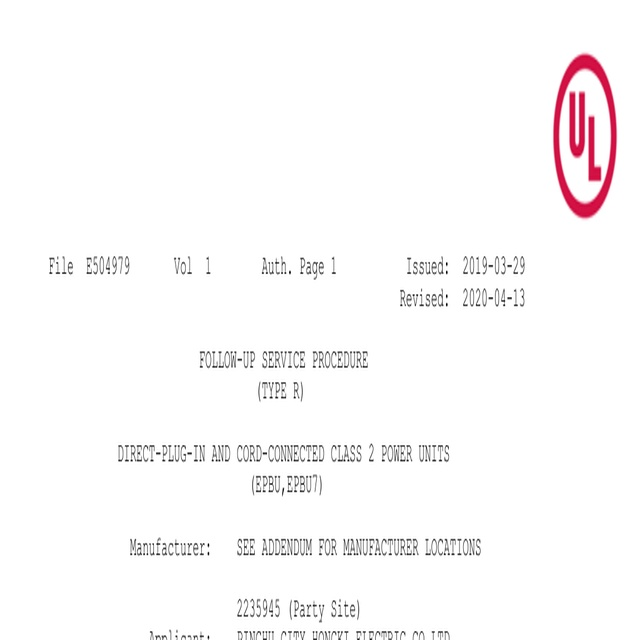ul: (551, 52, 619, 221)
